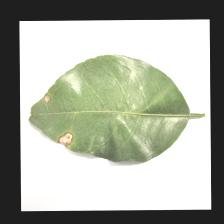canker: (37, 92, 92, 148)
